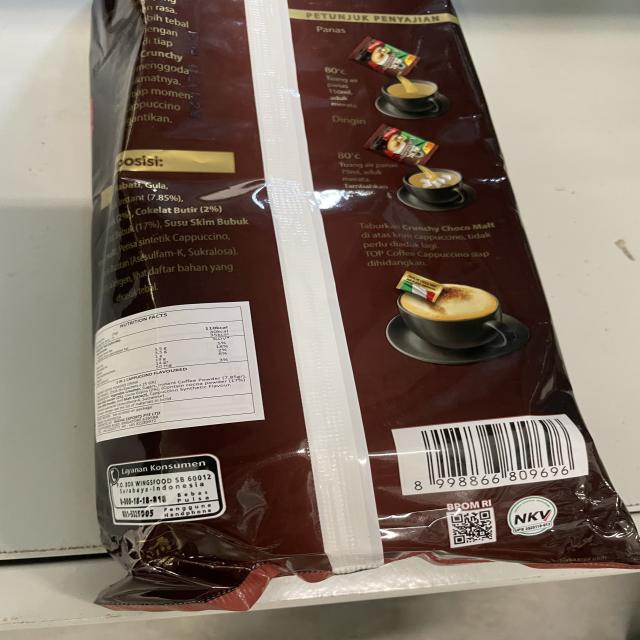object_name: (80, 3, 611, 568)
